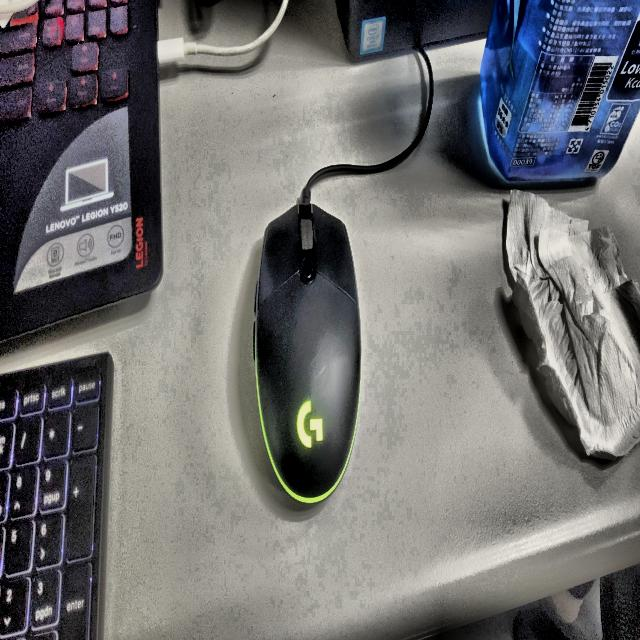laptop: (0, 0, 162, 342)
